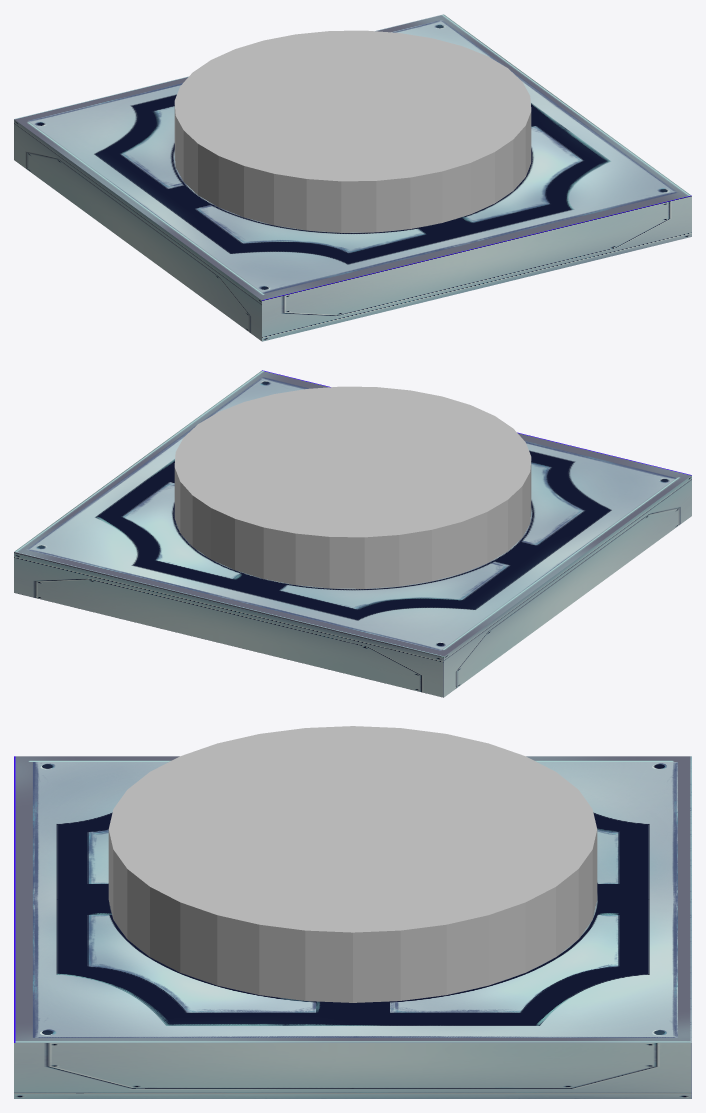
Rendered from button.fbx.
3 renders of one model, top to bottom at view 1: azimuth 30°, elevation 25°; view 2: azimuth 150°, elevation 25°; view 3: azimuth 270°, elevation 25°, orthographic. The views are drawn at different scales.
Visible parts, largest first — view 1: Plane, Circle; view 2: Plane, Circle; view 3: Plane, Circle.
Part boxes in pixels (bbox=[...]): Plane: bbox=[14, 14, 691, 341]; Circle: bbox=[174, 30, 531, 232]; Plane: bbox=[14, 370, 691, 697]; Circle: bbox=[174, 386, 531, 588]; Plane: bbox=[14, 756, 691, 1098]; Circle: bbox=[108, 726, 597, 1002].
Bounding box in the file's own units: 200 × 41.12 × 200.
